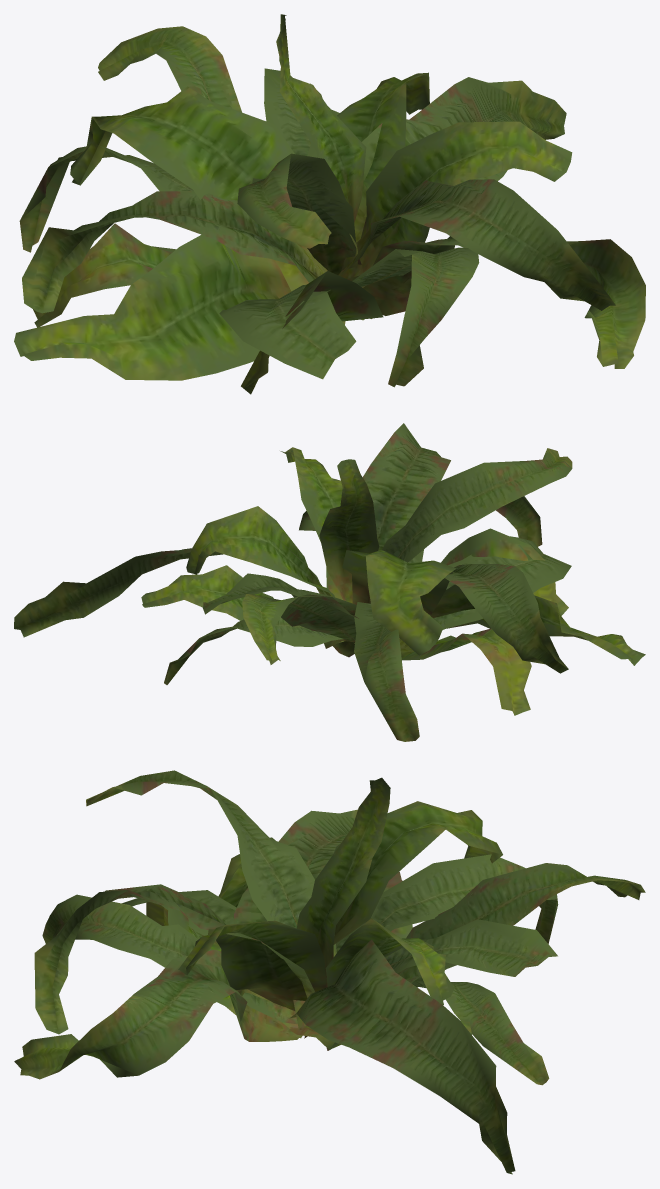
The model's file is fern_b.glb.
3 views of the same model, one above another, from view 1: azimuth 30°, elevation 25°; view 2: azimuth 150°, elevation 25°; view 3: azimuth 270°, elevation 25° (orthographic). The views are drawn at different scales.
Parts seen in each view (by area): view 1: fern_02_c; view 2: fern_02_c; view 3: fern_02_c.
Boxes of the visible parts, x1=… form: fern_02_c: x1=14, y1=14, x2=645, y2=394; fern_02_c: x1=14, y1=423, x2=645, y2=741; fern_02_c: x1=14, y1=770, x2=645, y2=1174.
Bounding box in the file's own units: 0.8743 × 0.349 × 0.7652.
Materials: 1 (1 with a texture image).
